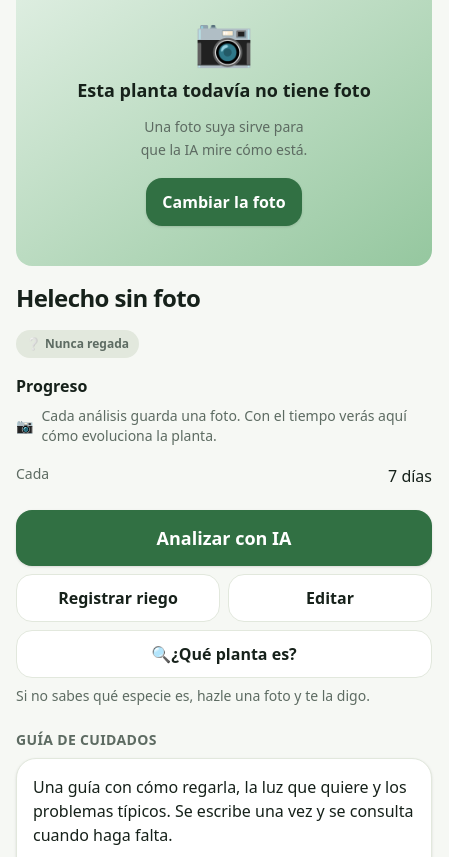
Test: <DetallePlanta> › no ofrece "la de la ficha" si la planta no tiene portada
What coordinates should you click on to do the following:
click the button "Analizar con IA"
I would click on:
 (224, 538)
Its box is [16, 510, 432, 566].
(page scrolled)
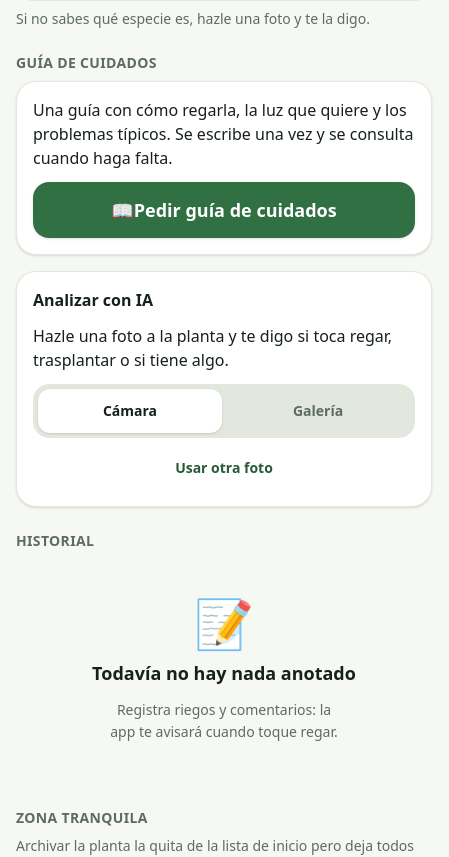
Now the radio button labelled "Cámara" is shown, box [38, 388, 222, 432]
